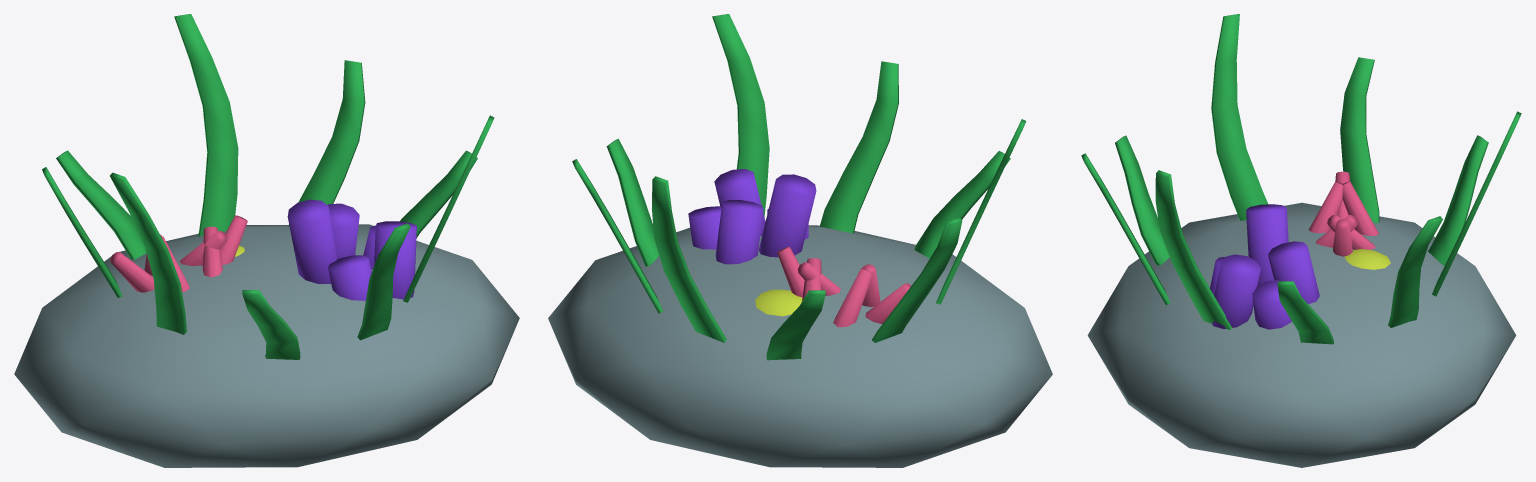
The model's file is nogita_coral_reef.fbx.
3 views of the same model, side by side, from view 1: azimuth 30°, elevation 25°; view 2: azimuth 150°, elevation 25°; view 3: azimuth 270°, elevation 25° (orthographic). The views are drawn at different scales.
Parts seen in each view (by area): view 1: Icosphere; view 2: Icosphere; view 3: Icosphere.
Part boxes in pixels (left/top/right/bottom): Icosphere: left=14, top=14, right=519, bottom=467; Icosphere: left=548, top=14, right=1052, bottom=467; Icosphere: left=1081, top=14, right=1521, bottom=467.
Size of the model in its own units: 1.78 by 1.26 by 1.62.
